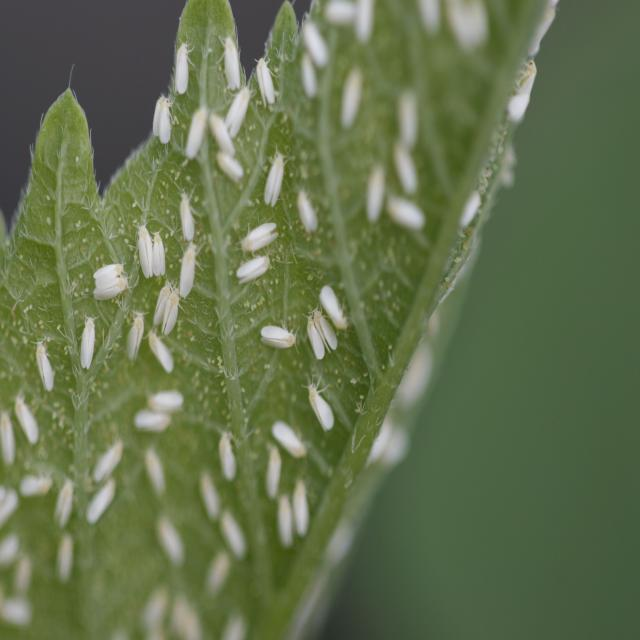whiteflies: (130, 218, 170, 282), (300, 306, 340, 368), (215, 28, 247, 102), (86, 260, 132, 306), (261, 140, 290, 212), (302, 380, 336, 441), (168, 36, 200, 97), (256, 315, 302, 357), (28, 331, 58, 395), (177, 239, 203, 307), (172, 188, 202, 243), (252, 52, 278, 110), (150, 97, 177, 149), (76, 314, 98, 375)
